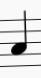note: (8, 6, 28, 71)
